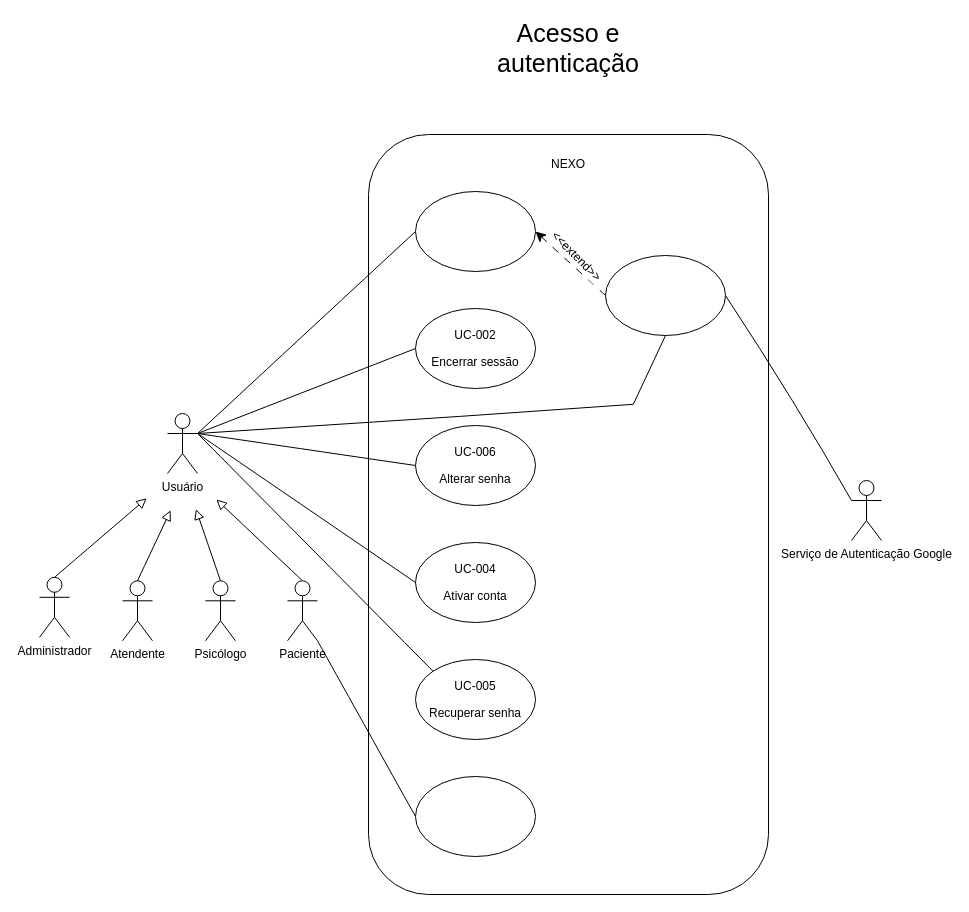
Some shapes in this 969 by 912 pixel diagram are drawn without their labels. The shapes that lost their labels are listed below. From the top down, each one's box as (x1, y1, x2, y2) in pixels, then its label:
(414, 190, 536, 272): UC-001 Realizar login
(604, 254, 726, 336): Autenticar com Google
(414, 776, 536, 856): UC-003 Realizar autocadastro
